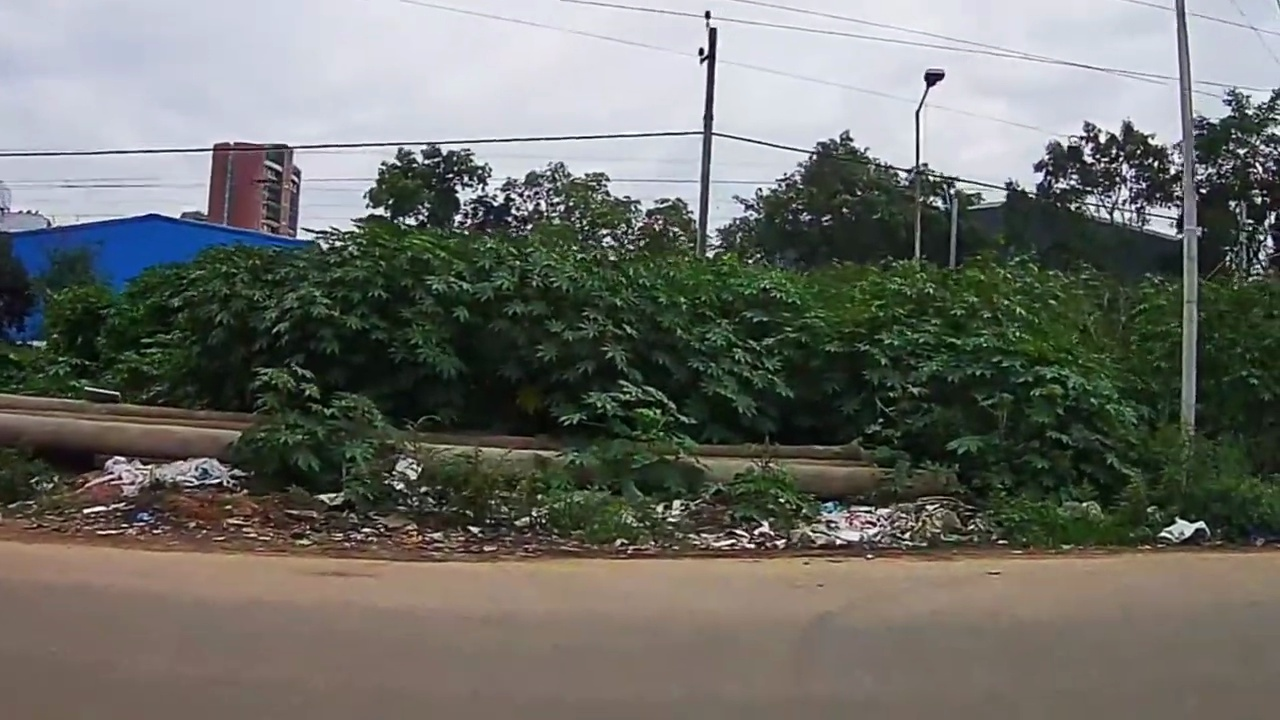garbage: (813, 504, 977, 547), (73, 460, 228, 485)
